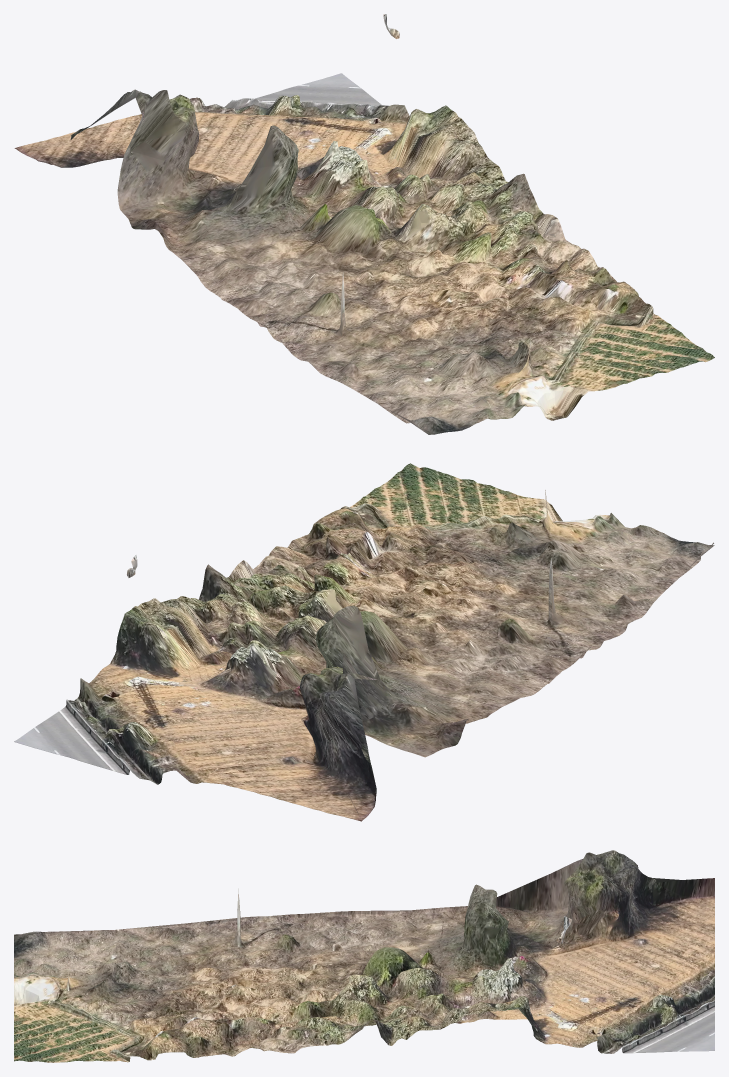
Rendered from BlockYY_L20_325.glb.
3 renders of one model, top to bottom at view 1: azimuth 30°, elevation 25°; view 2: azimuth 150°, elevation 25°; view 3: azimuth 270°, elevation 25°, orthographic. The views are drawn at different scales.
Parts seen in each view (by area): view 1: rtc; view 2: rtc; view 3: rtc.
Part boxes in pixels (bbox=[...]): rtc: bbox=[14, 14, 714, 434]; rtc: bbox=[14, 463, 714, 821]; rtc: bbox=[14, 850, 714, 1062].
Size of the model in its own units: 37.15 by 17.48 by 73.27.
7 materials, 7 textured.
